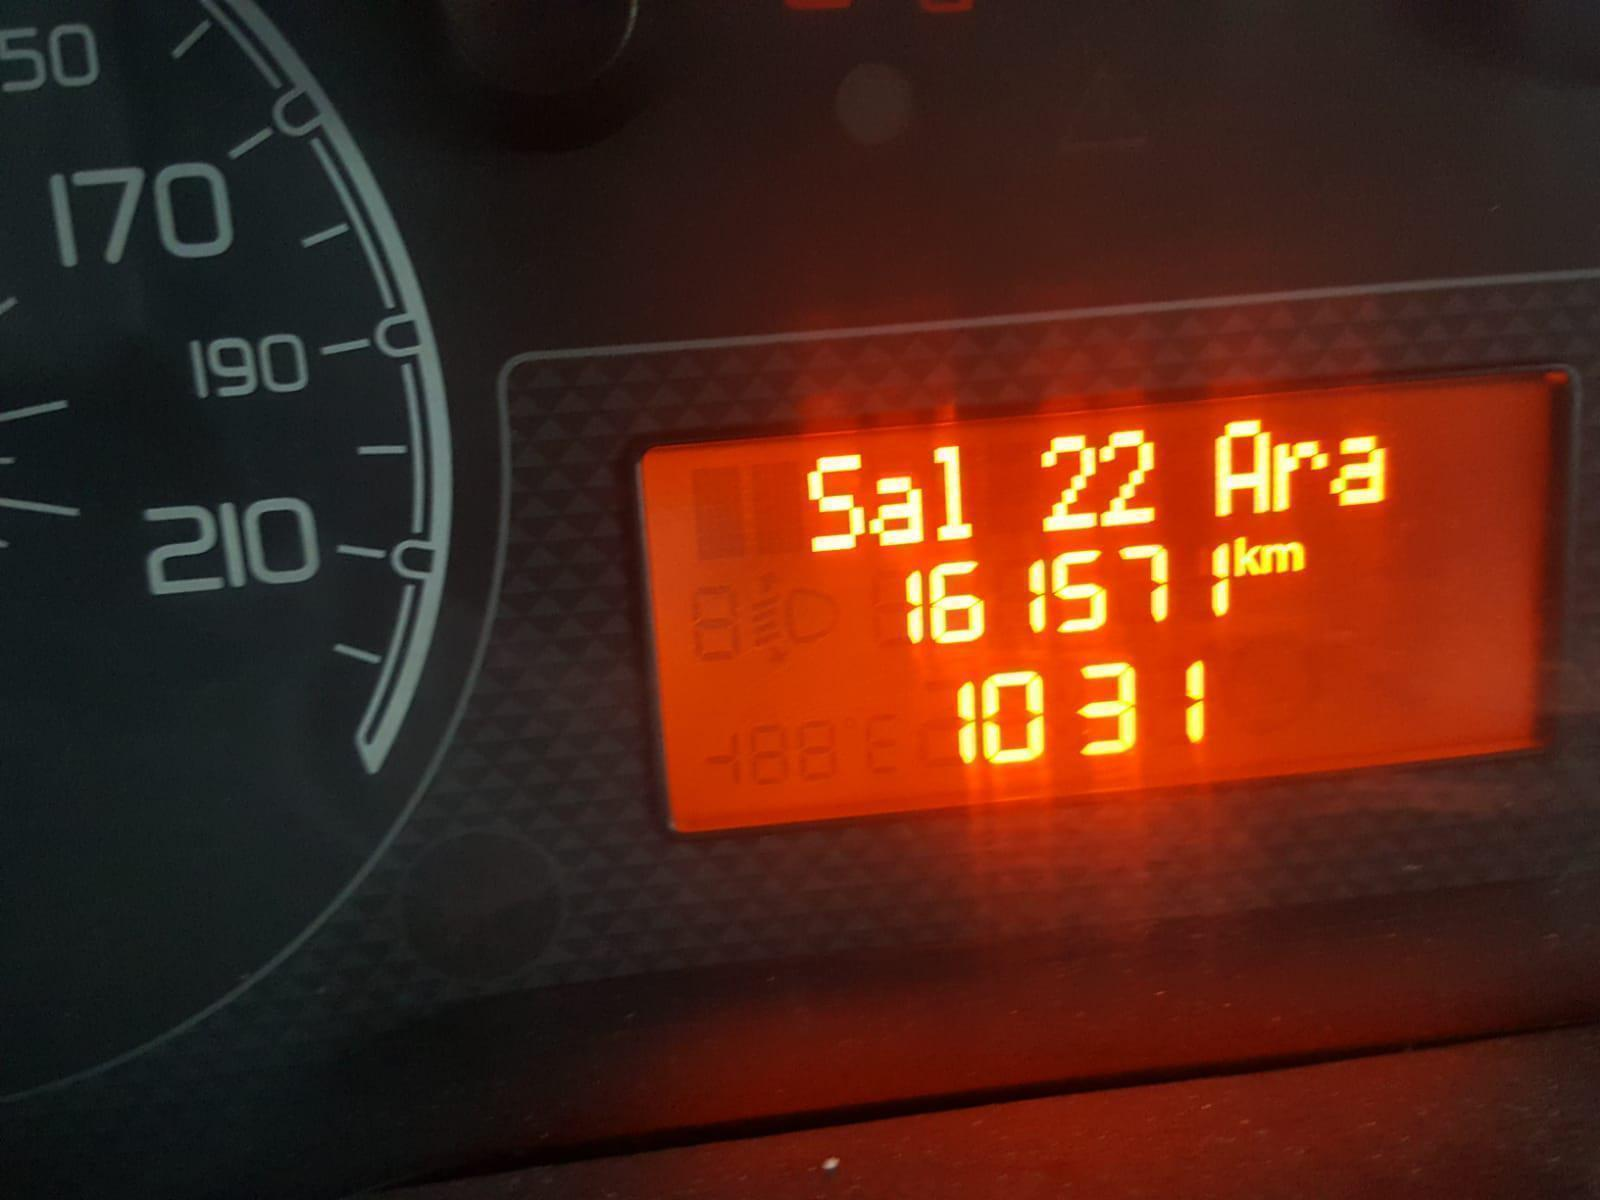0: (980, 666, 1046, 771)
1: (1178, 645, 1217, 760), (947, 666, 978, 782), (1019, 550, 1049, 643), (894, 560, 923, 654), (1206, 539, 1232, 637)
2: (1099, 420, 1162, 534), (1036, 430, 1099, 538)
3: (1072, 648, 1148, 766)
5: (1054, 543, 1109, 637)
6: (926, 558, 991, 650)
7: (1119, 539, 1186, 632)
X: (800, 451, 866, 562), (1212, 408, 1274, 519), (929, 441, 979, 547), (1334, 430, 1393, 517), (866, 468, 926, 550), (1272, 437, 1327, 511), (1259, 538, 1308, 579), (1235, 529, 1260, 581)
odometer: (631, 357, 1574, 855)
